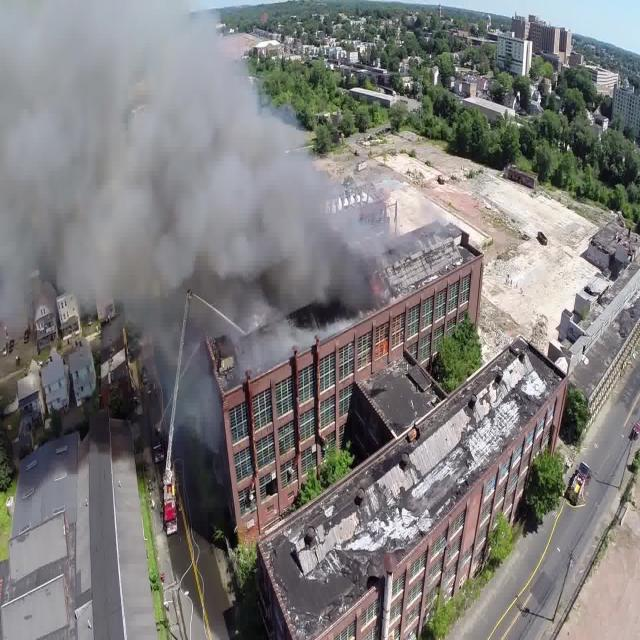smoke: (0, 4, 248, 348), (250, 122, 372, 317)
